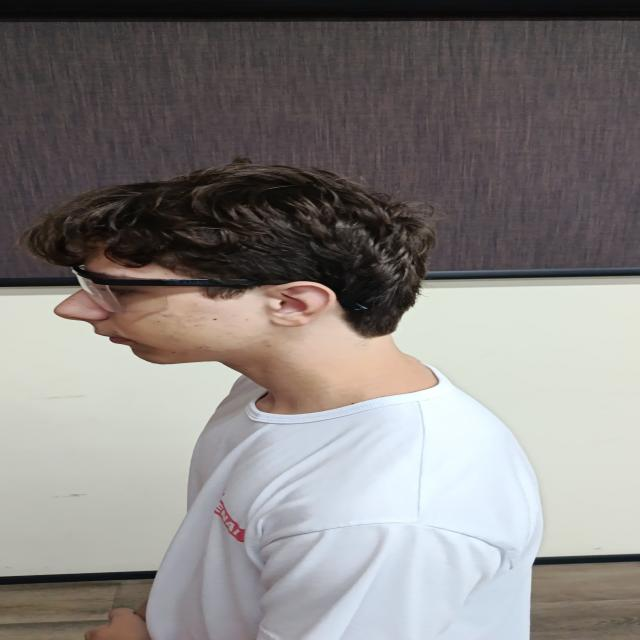oculos-epi: (67, 264, 278, 314)
